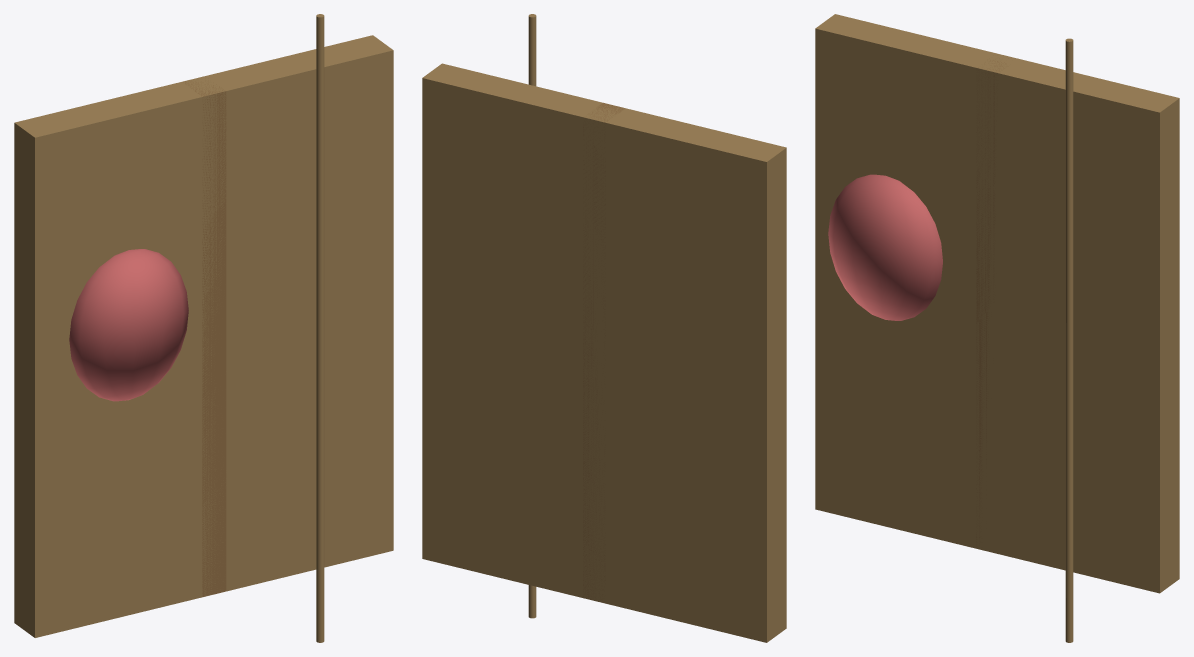
File: env-med-weaponrack.glb
3 renders of one model, left to right at view 1: azimuth 30°, elevation 25°; view 2: azimuth 150°, elevation 25°; view 3: azimuth 330°, elevation 25°, orthographic. The views are drawn at different scales.
Size of the model in its own units: 1.5 by 2.5 by 0.265.
